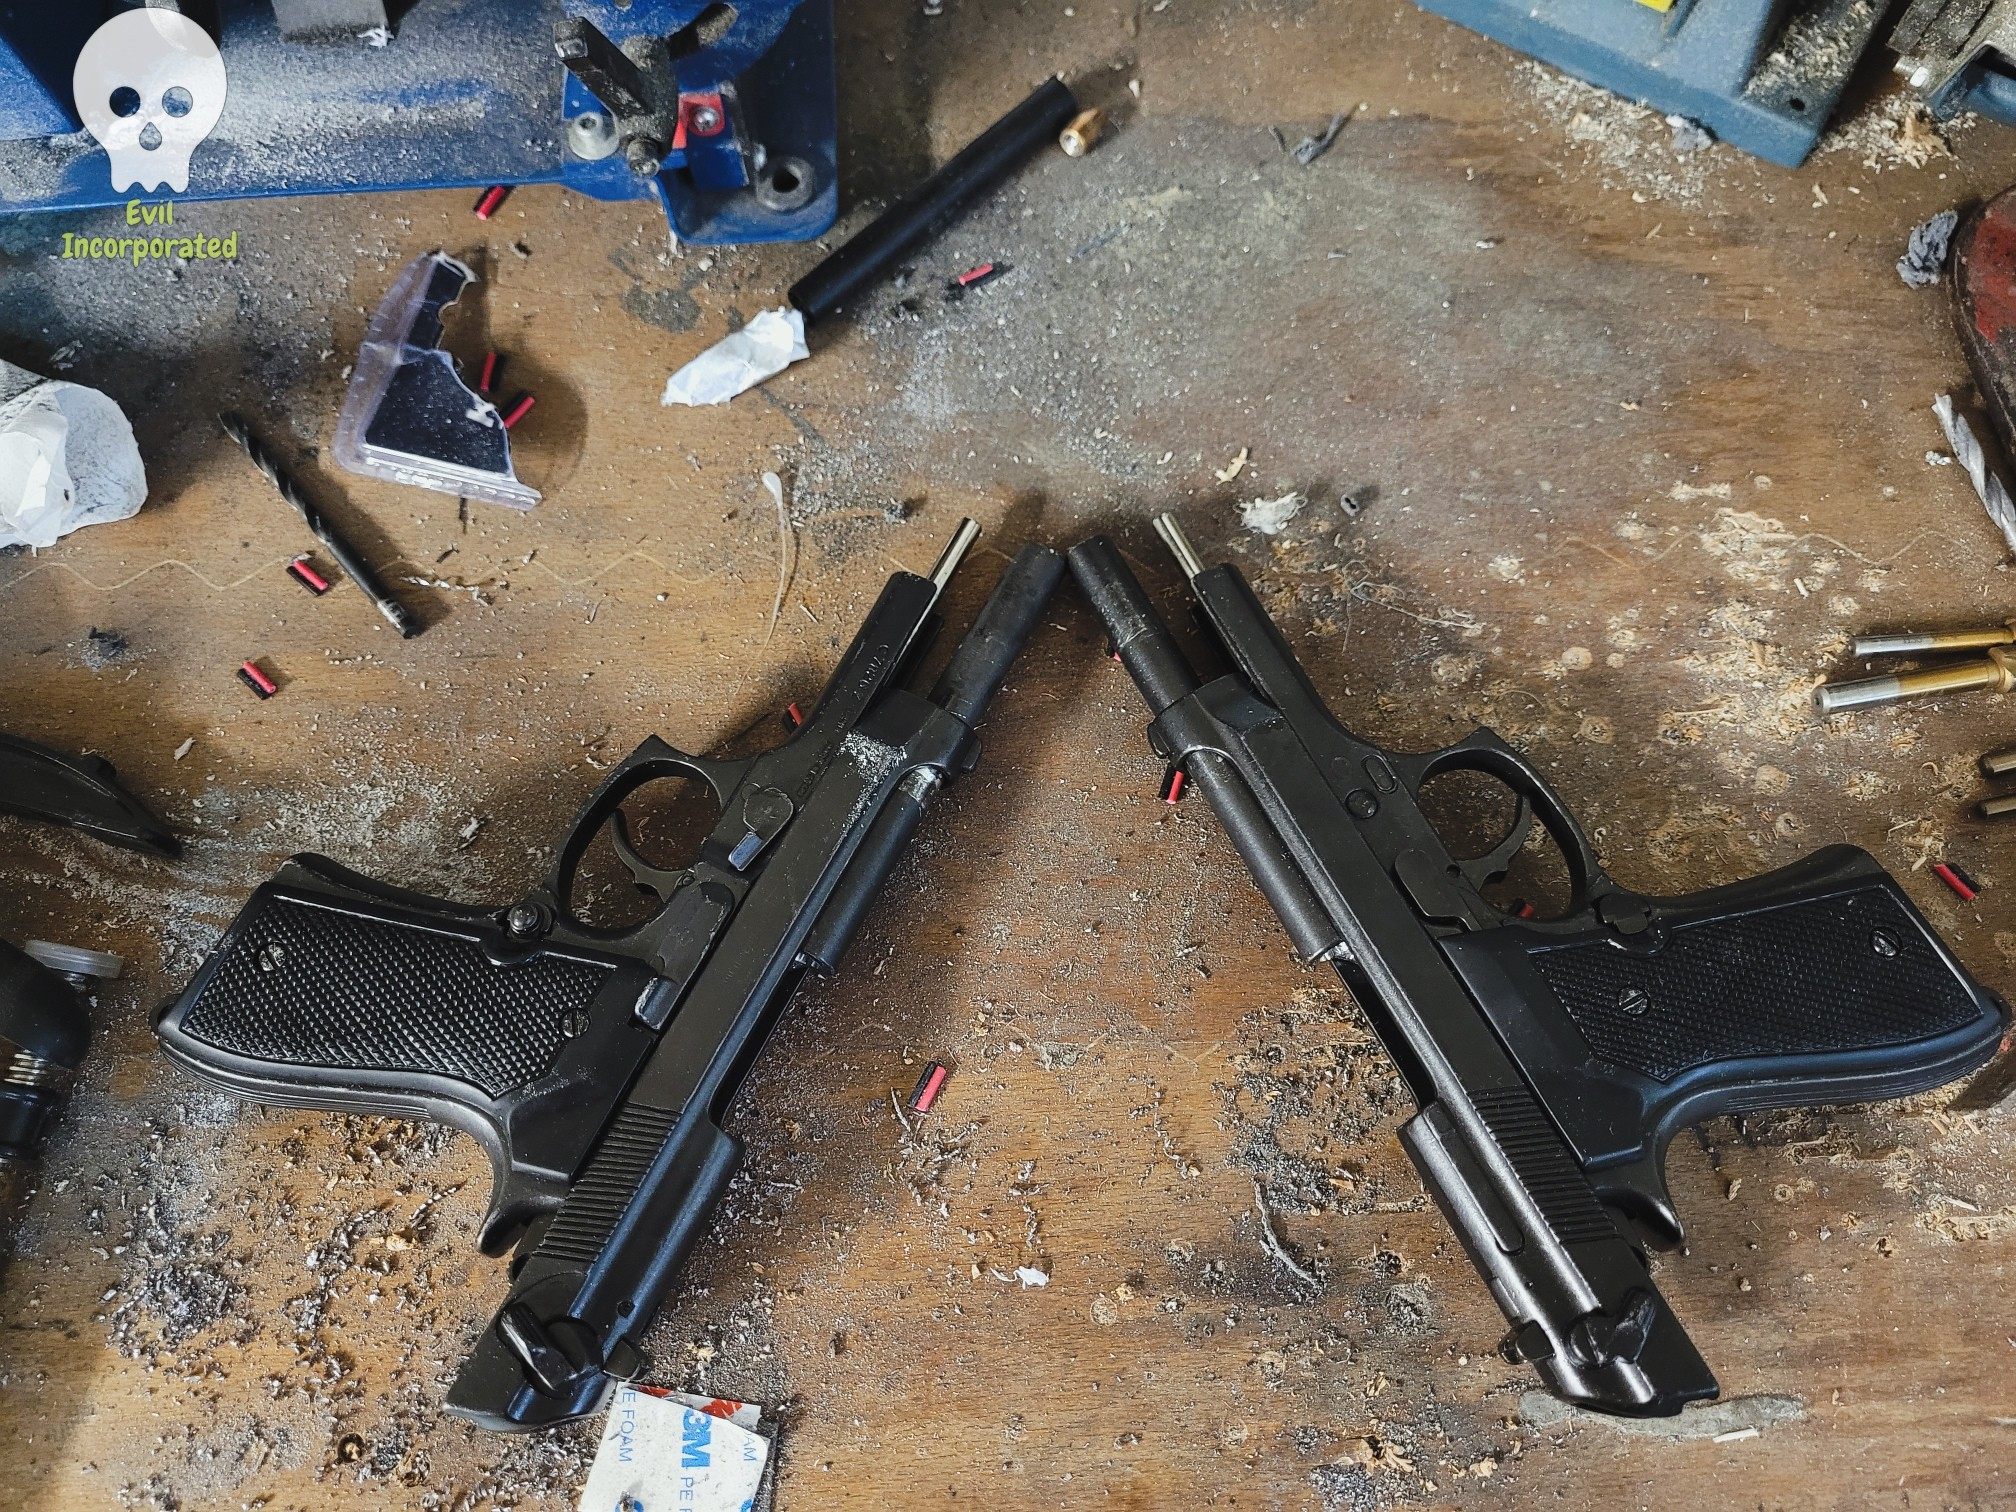gun: (1060, 505, 2006, 1436), (148, 515, 1068, 1444)
